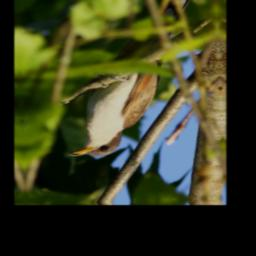Cuckoo: (57, 0, 207, 162)
